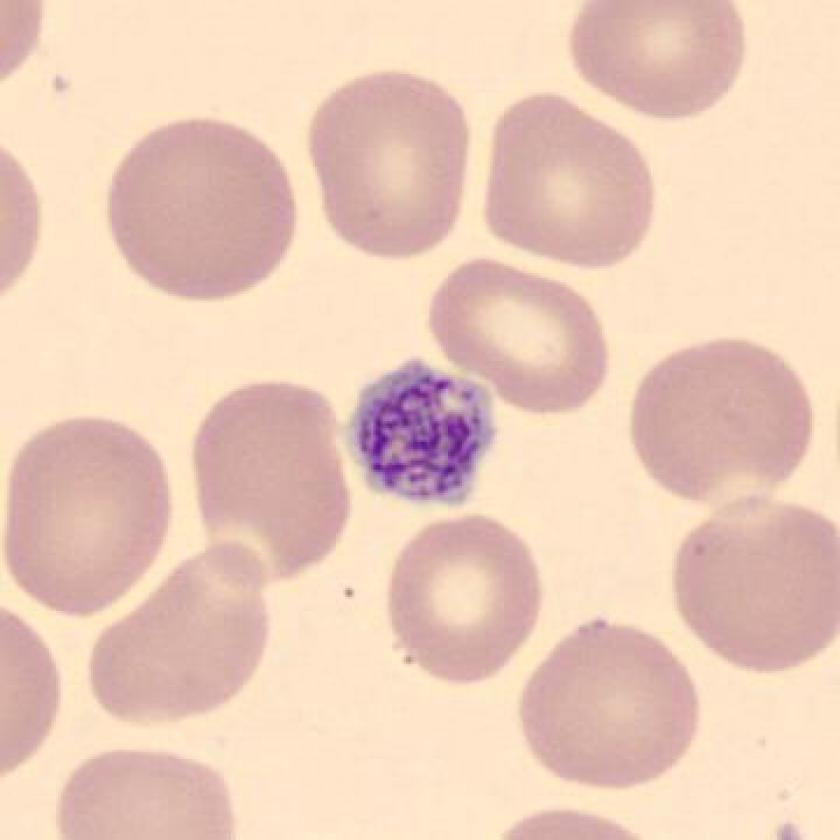platelets: (325, 346, 512, 517)
